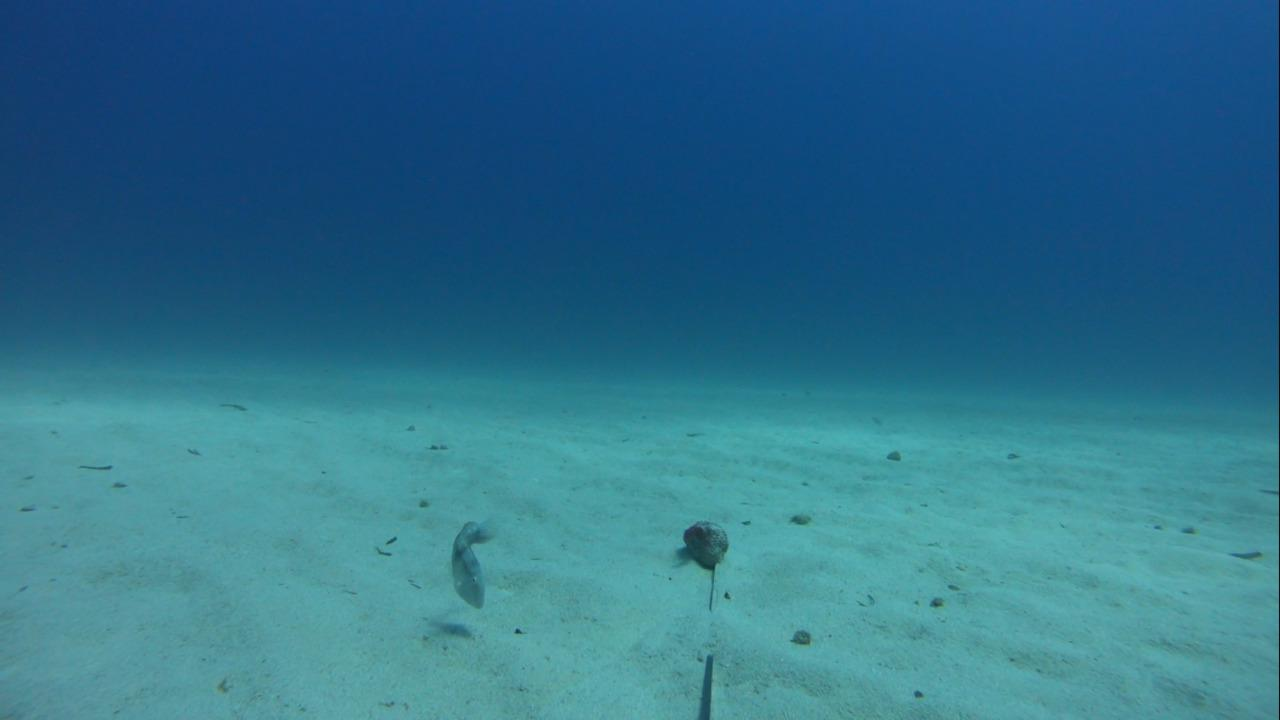raor: (443, 512, 500, 611)
